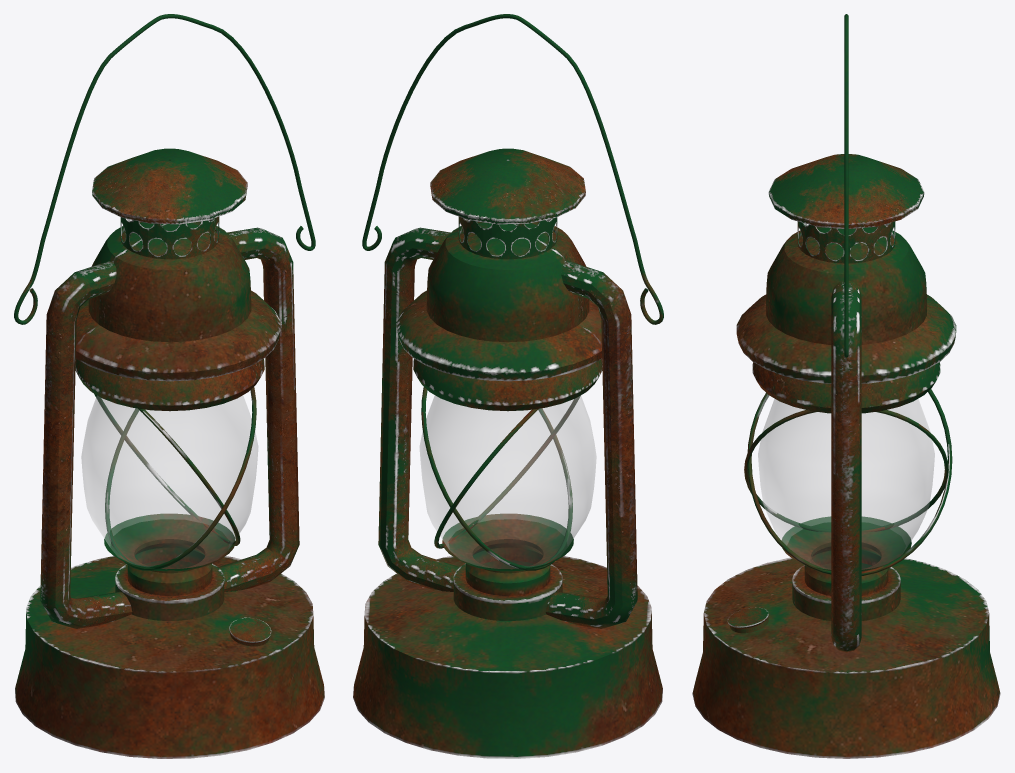
The model's file is lamp.glb.
The picture shows the model from 3 angles, left to right: view 1: azimuth 30°, elevation 25°; view 2: azimuth 150°, elevation 25°; view 3: azimuth 270°, elevation 25°; orthographic projection.
Visible parts, largest first — view 1: Circle.001_2, Vert_0; view 2: Circle.001_2, Vert_0; view 3: Circle.001_2, Vert_0.
Part boxes in pixels (x1=…): Circle.001_2: x1=14, y1=14, x2=324, y2=758; Vert_0: x1=81, y1=395, x2=258, y2=568; Circle.001_2: x1=353, y1=14, x2=663, y2=758; Vert_0: x1=419, y1=395, x2=596, y2=568; Circle.001_2: x1=692, y1=14, x2=1000, y2=758; Vert_0: x1=758, y1=399, x2=934, y2=569.
Size of the model in its own units: 1.6 by 3.44 by 1.43.
2 materials, 1 textured.
